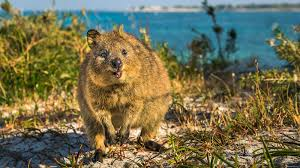quokka: (59, 22, 177, 156)
